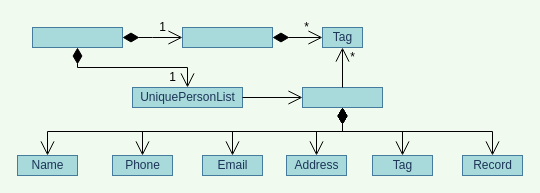
Some shapes in this 540 by 193 pixel diagram are drawn without their labels. The shapes that lost their labels are listed below. From the top down, each one's centre as x and y in pixels, then its label:
At [77,37]: "Addressbook".
At [227,37]: "UniqueTagList".
At [342,97]: "Person".
